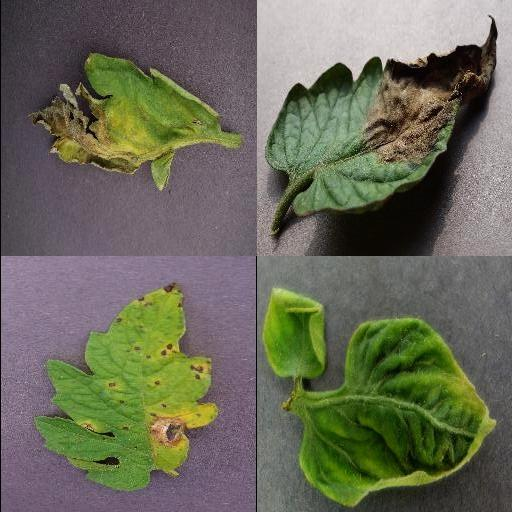Late Blight: (264, 16, 500, 220), (27, 51, 223, 191)
Septoria: (34, 282, 218, 492)
Yellow Leaf Curl Virus: (298, 316, 496, 508), (263, 287, 325, 379)
